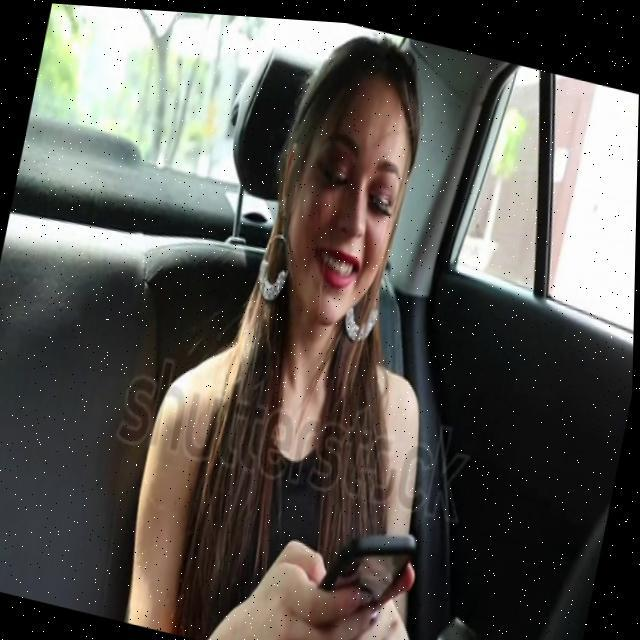PhoneCall: (314, 509, 422, 623)
